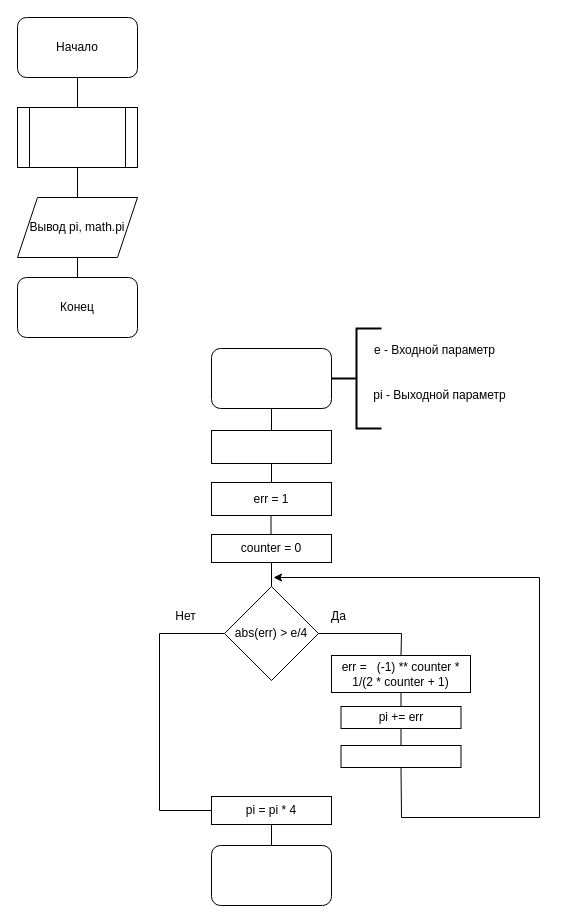
This 565x923 diagram has some shape labels left out. Here are the shapes that lost their labels. From the top down, the box of each, then its label:
(16, 106, 138, 168): pi = calcPi(0.00001)
(210, 348, 332, 408): Начало calcPi(e)
(210, 430, 332, 464): pi = 0
(340, 744, 461, 768): counter+= err
(210, 844, 332, 906): Конец calcPi(e)
